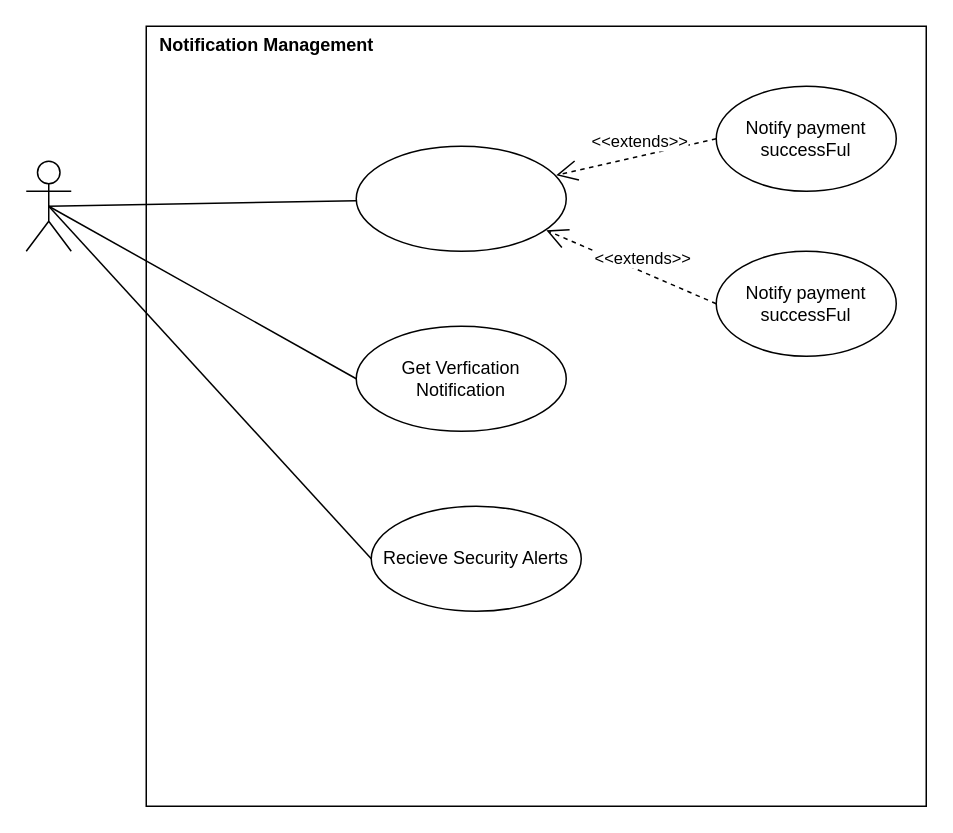
Some shapes in this 953 by 833 pixel diagram are drawn without their labels. Each missing label, with the centre of its shape:
"Client" goes at pixel 48 205.
"View Payement Notification" goes at pixel 460 198.
